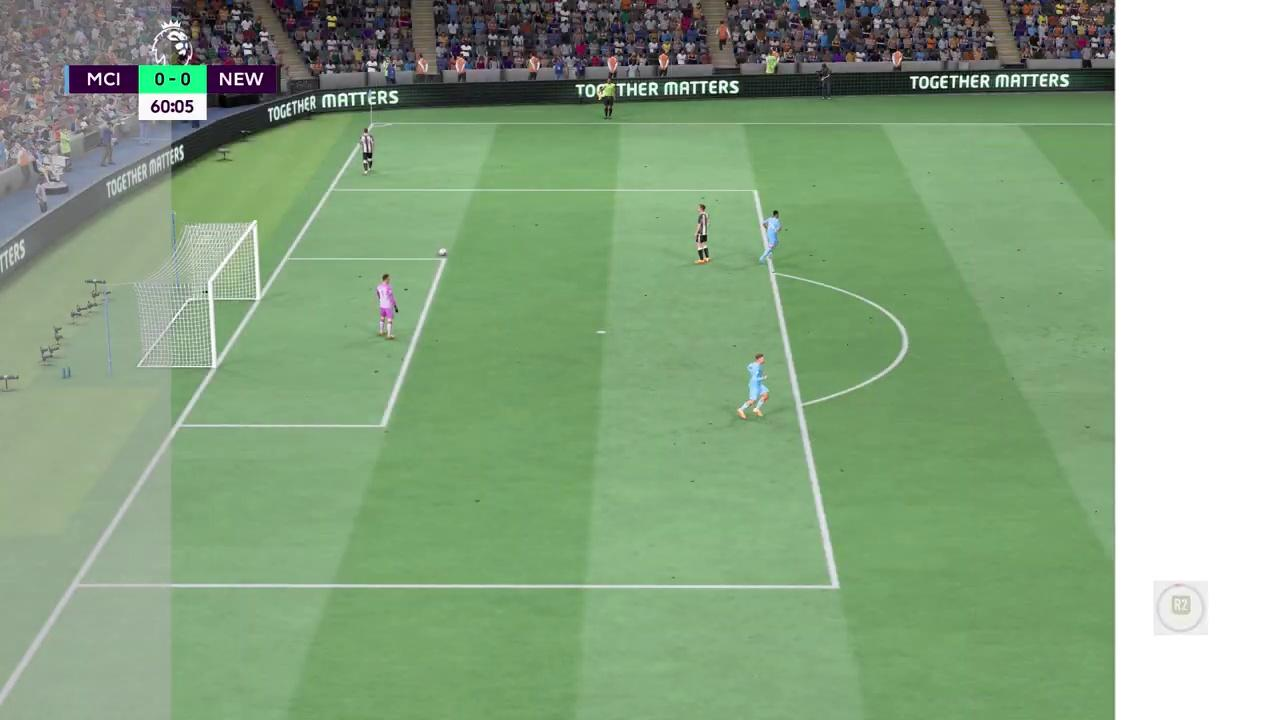scoreboard: (64, 67, 280, 94)
timestamp: (138, 93, 207, 120)
